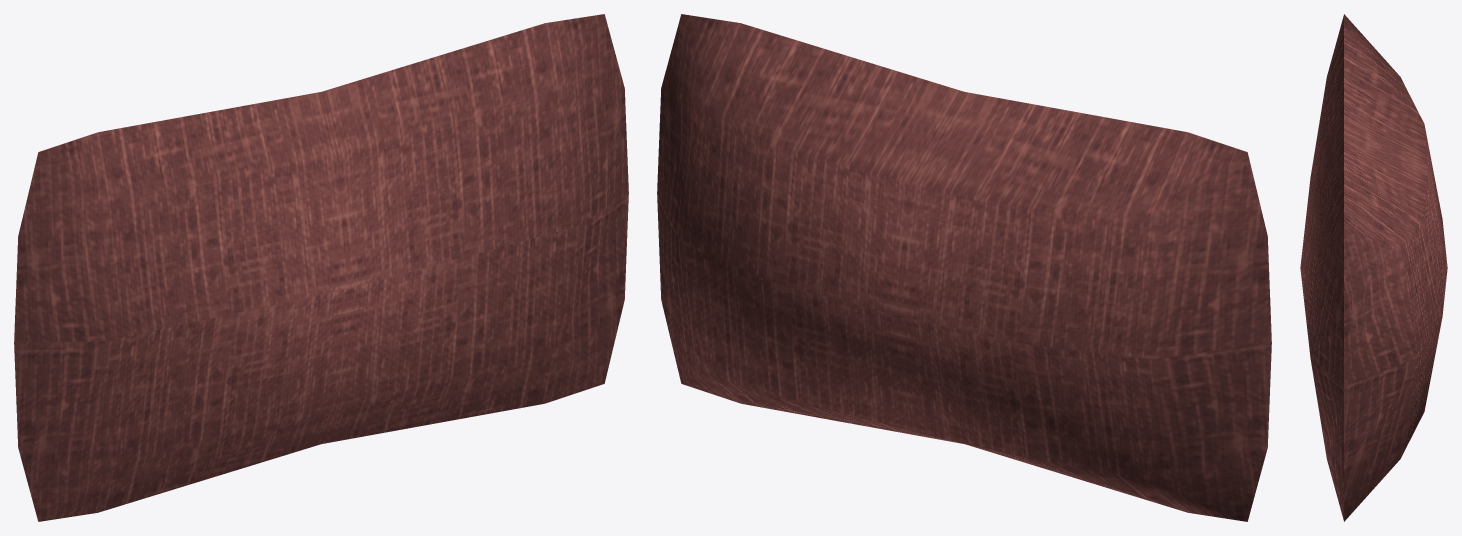
Rendered from Bag_Flat_C.fbx.
3 renders of one model, left to right at view 1: azimuth 30°, elevation 25°; view 2: azimuth 150°, elevation 25°; view 3: azimuth 270°, elevation 25°, orthographic. The views are drawn at different scales.
Parts seen in each view (by area): view 1: Bag_Flat_C; view 2: Bag_Flat_C; view 3: Bag_Flat_C.
Part boxes in pixels (x1,y1,x2,y2): Bag_Flat_C: [14, 14, 628, 521]; Bag_Flat_C: [657, 14, 1271, 521]; Bag_Flat_C: [1300, 14, 1447, 521].
Size of the model in its own units: 1.49 by 0.8795 by 0.3924.
